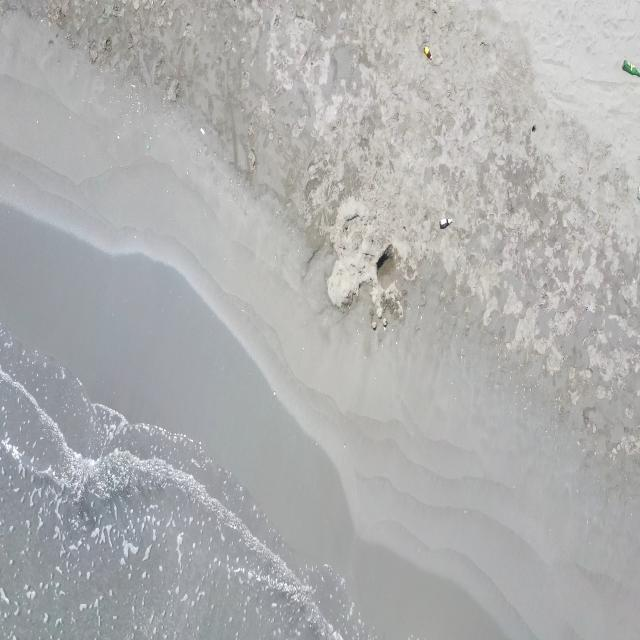glass: (622, 59, 640, 77), (439, 218, 453, 229), (423, 44, 432, 60)
